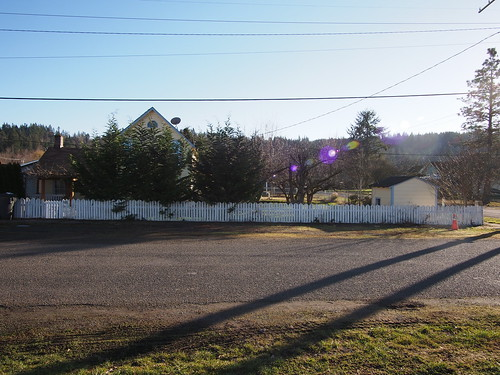building: (122, 104, 201, 199)
sky: (1, 1, 484, 122)
street: (6, 218, 500, 305)
tree: (439, 50, 500, 208), (88, 129, 176, 206), (183, 123, 271, 200), (344, 107, 388, 203)
